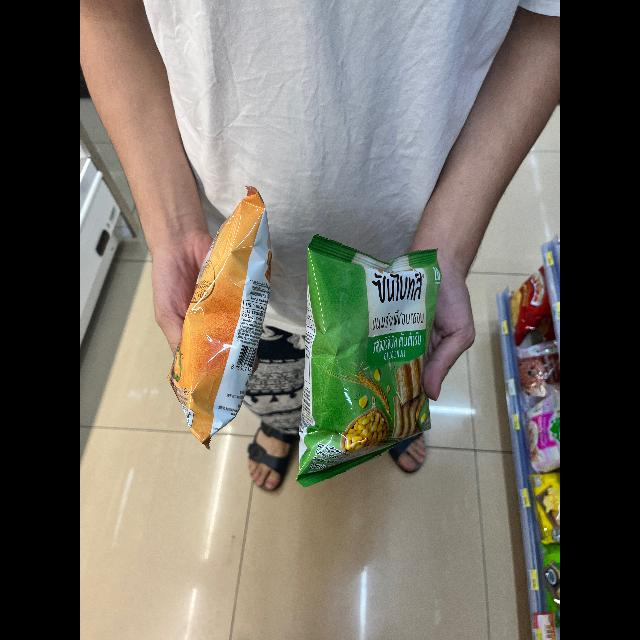snack_bag: (284, 237, 442, 481), (167, 181, 273, 449)
